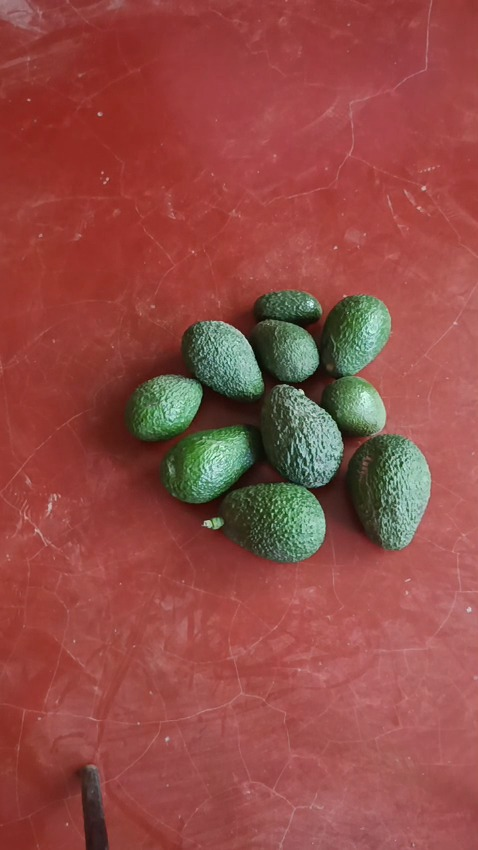Primera: (345, 434, 431, 549), (258, 382, 343, 487), (215, 483, 326, 561), (160, 424, 262, 504), (181, 319, 266, 402)
Segunda: (318, 294, 391, 377), (125, 374, 203, 441)
Tercera: (250, 319, 320, 384), (320, 375, 386, 438), (253, 290, 323, 326)
